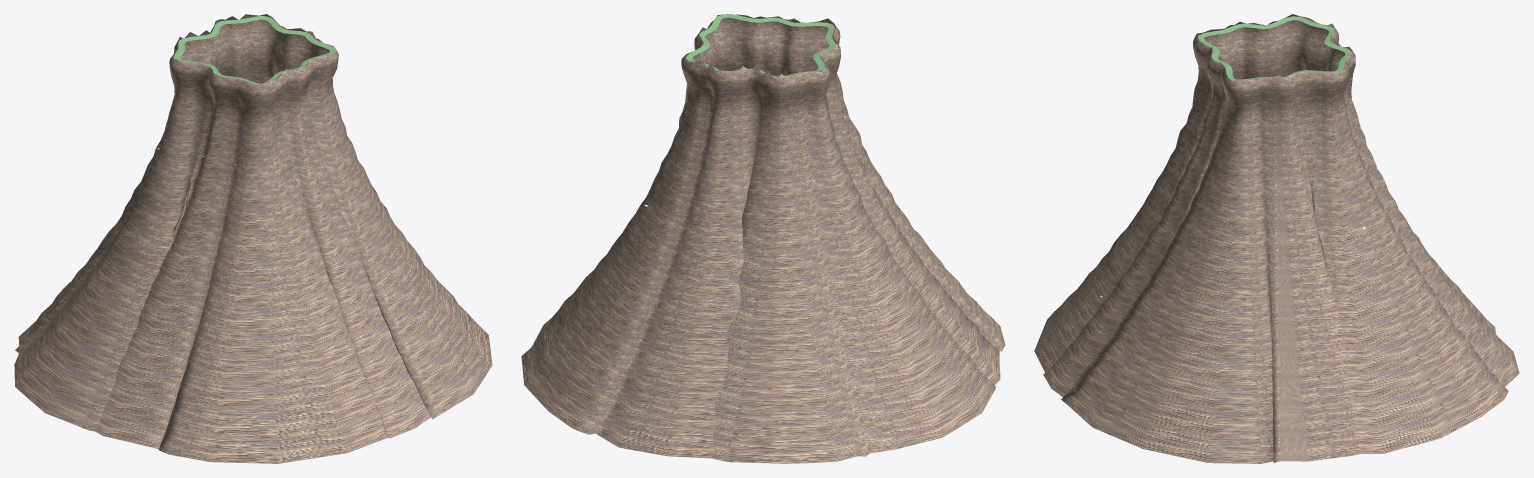
The model's file is CliffWall_stack_07.glb.
3 renders of one model, left to right at view 1: azimuth 30°, elevation 25°; view 2: azimuth 150°, elevation 25°; view 3: azimuth 270°, elevation 25°, orthographic. The views are drawn at different scales.
Visible parts, largest first — view 1: CliffWall_stack_07-rock0, CliffWall_stack_07-lip0; view 2: CliffWall_stack_07-rock0, CliffWall_stack_07-lip0; view 3: CliffWall_stack_07-rock0, CliffWall_stack_07-lip0.
Boxes of the visible parts, left/top/right/bottom form: CliffWall_stack_07-rock0: left=14, top=14, right=492, bottom=463; CliffWall_stack_07-lip0: left=174, top=16, right=336, bottom=84; CliffWall_stack_07-rock0: left=521, top=14, right=1005, bottom=463; CliffWall_stack_07-lip0: left=686, top=14, right=835, bottom=77; CliffWall_stack_07-rock0: left=1034, top=14, right=1519, bottom=463; CliffWall_stack_07-lip0: left=1198, top=16, right=1351, bottom=80.
Bounding box in the file's own units: 656 × 476 × 657.
Materials: 4 (1 with a texture image).
